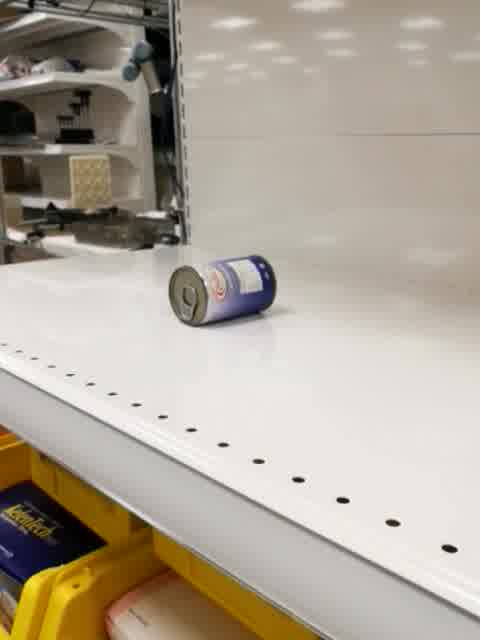sardine: (168, 253, 279, 327)
